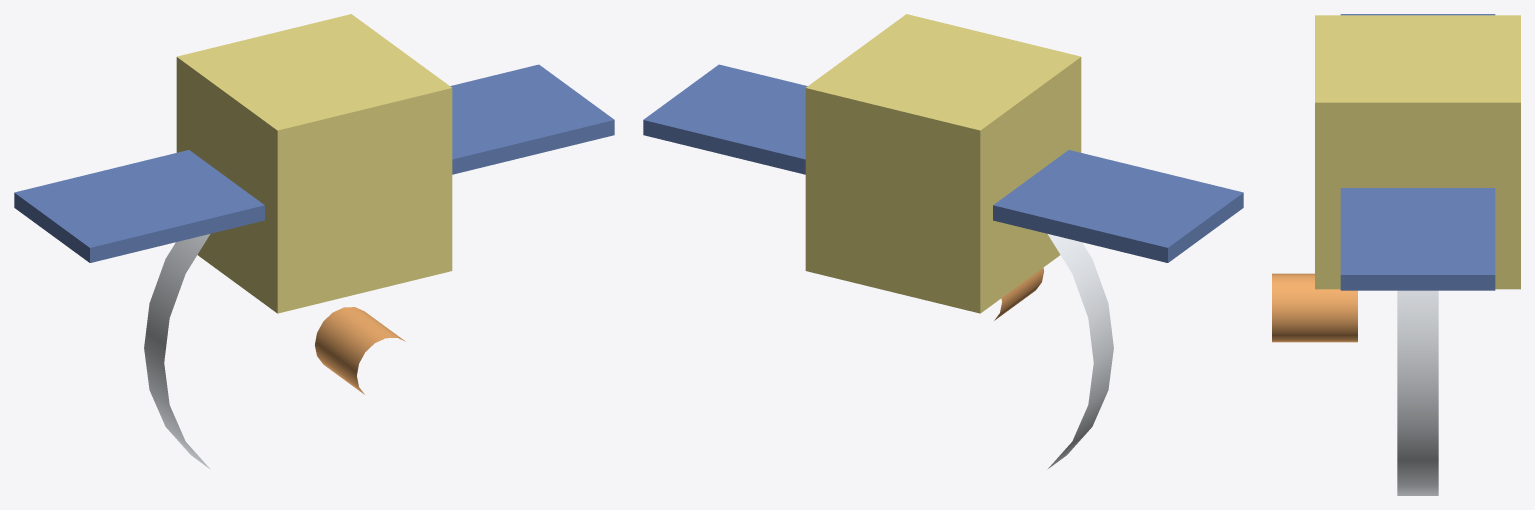
File: satellite_link_budget_look_angles.glb
3 renders of one model, left to right at view 1: azimuth 30°, elevation 25°; view 2: azimuth 150°, elevation 25°; view 3: azimuth 270°, elevation 25°, orthographic.
Visible parts, largest first — view 1: SatelliteMainBusChassis, SolarPanelArrayWings, EarthStationParabolicDish, CassegrainSubreflectorFeed; view 2: SatelliteMainBusChassis, SolarPanelArrayWings, EarthStationParabolicDish, CassegrainSubreflectorFeed; view 3: SatelliteMainBusChassis, SolarPanelArrayWings, EarthStationParabolicDish, CassegrainSubreflectorFeed.
Part boxes in pixels (left/top/right/bottom): SatelliteMainBusChassis: left=176, top=14, right=452, bottom=313; SolarPanelArrayWings: left=14, top=64, right=614, bottom=262; EarthStationParabolicDish: left=144, top=234, right=210, bottom=469; CassegrainSubreflectorFeed: left=315, top=307, right=405, bottom=394; SatelliteMainBusChassis: left=805, top=14, right=1081, bottom=313; SolarPanelArrayWings: left=643, top=64, right=1243, bottom=262; EarthStationParabolicDish: left=1047, top=234, right=1113, bottom=469; CassegrainSubreflectorFeed: left=994, top=267, right=1043, bottom=320; SatelliteMainBusChassis: left=1315, top=15, right=1520, bottom=289; SolarPanelArrayWings: left=1340, top=14, right=1495, bottom=290; EarthStationParabolicDish: left=1397, top=290, right=1438, bottom=495; CassegrainSubreflectorFeed: left=1272, top=273, right=1357, bottom=342.
Size of the model in its own units: 1.8 by 1.35 by 0.725.
